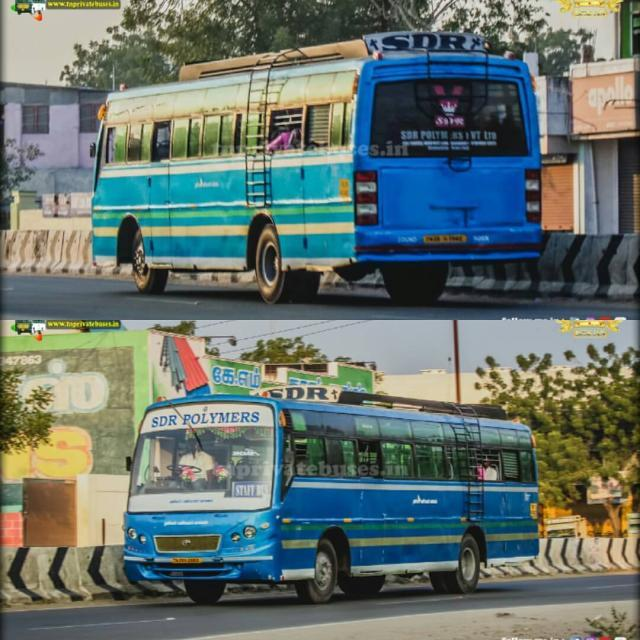Bus: (79, 33, 559, 304), (111, 394, 553, 608)
